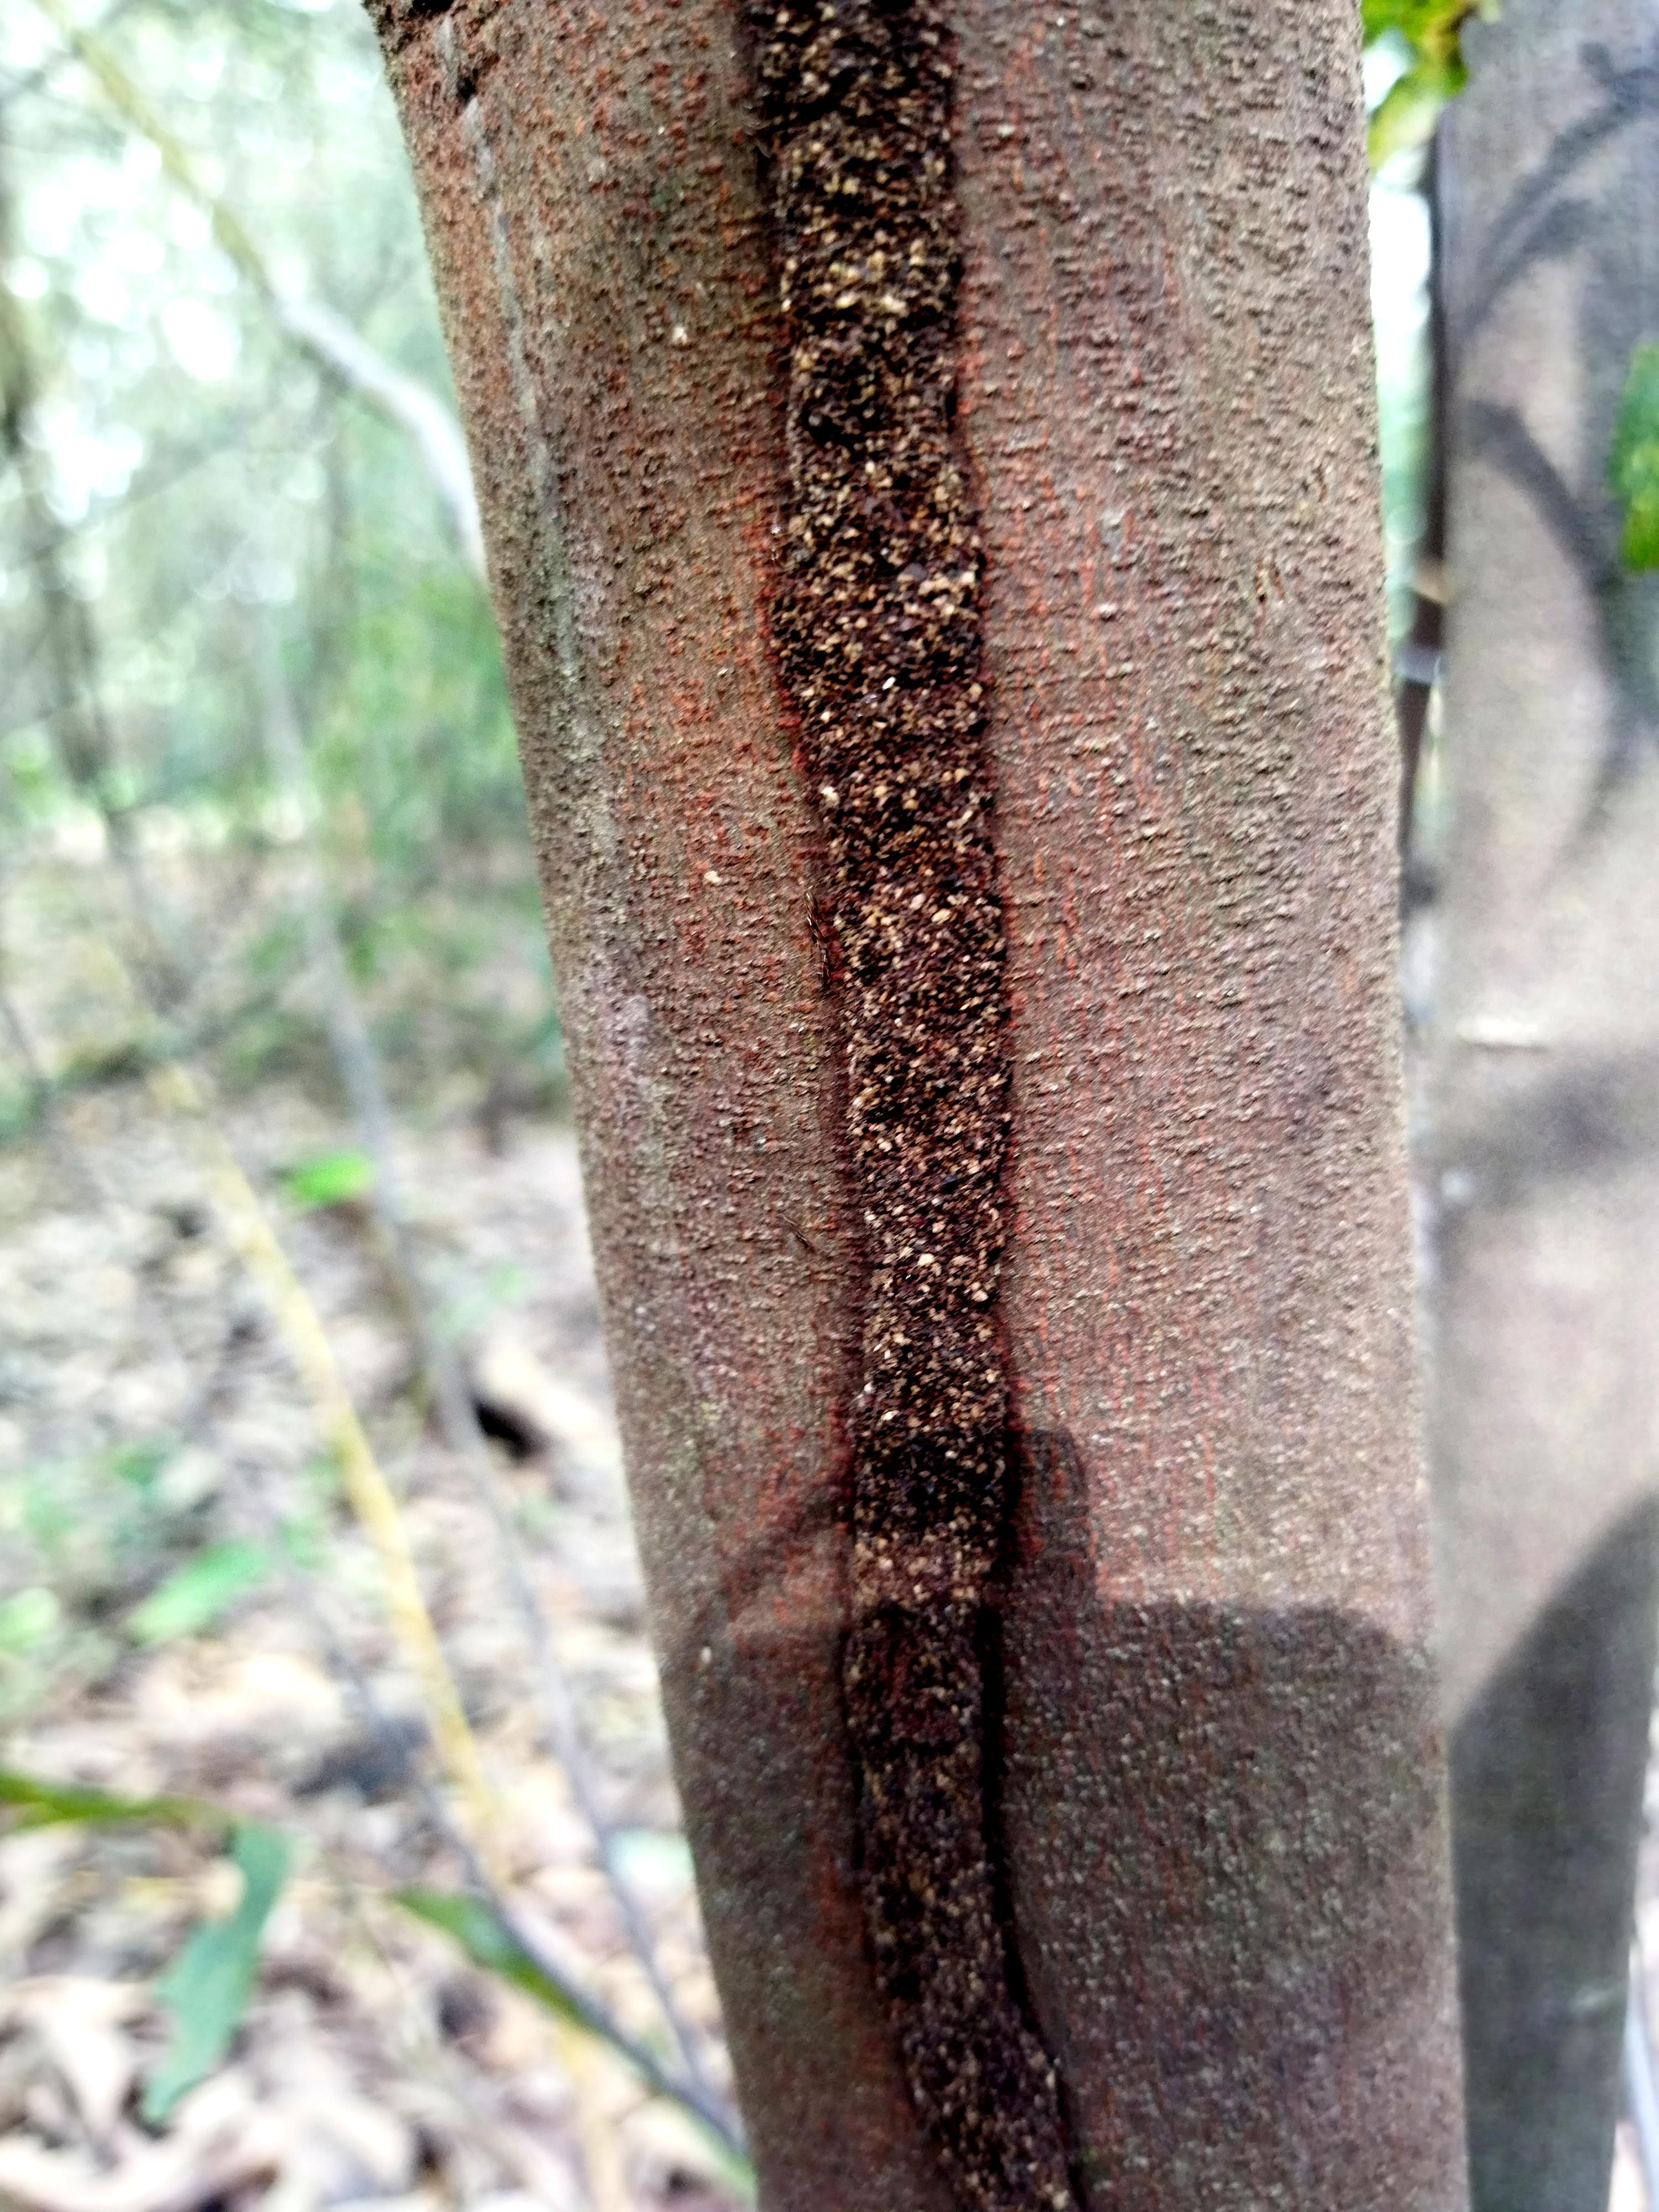Termite - Nest: (714, 0, 1152, 2212)
